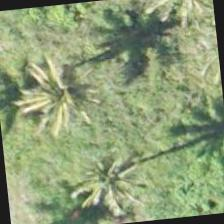Kelapa_Sawit: (10, 48, 108, 147), (56, 133, 156, 223)
